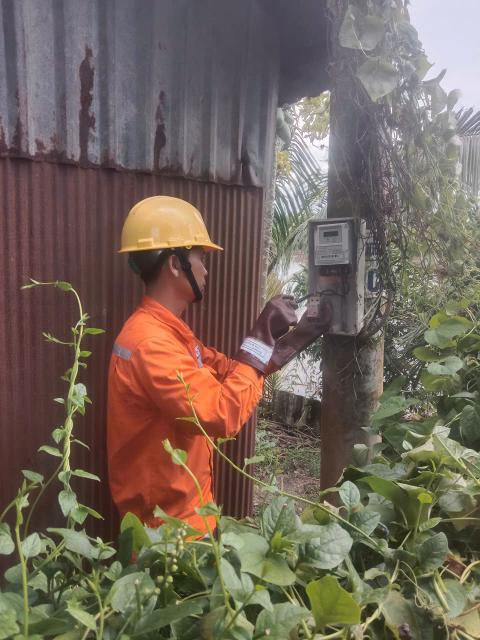gloves: (226, 285, 295, 373), (272, 296, 338, 372)
helmet: (109, 191, 229, 264)
